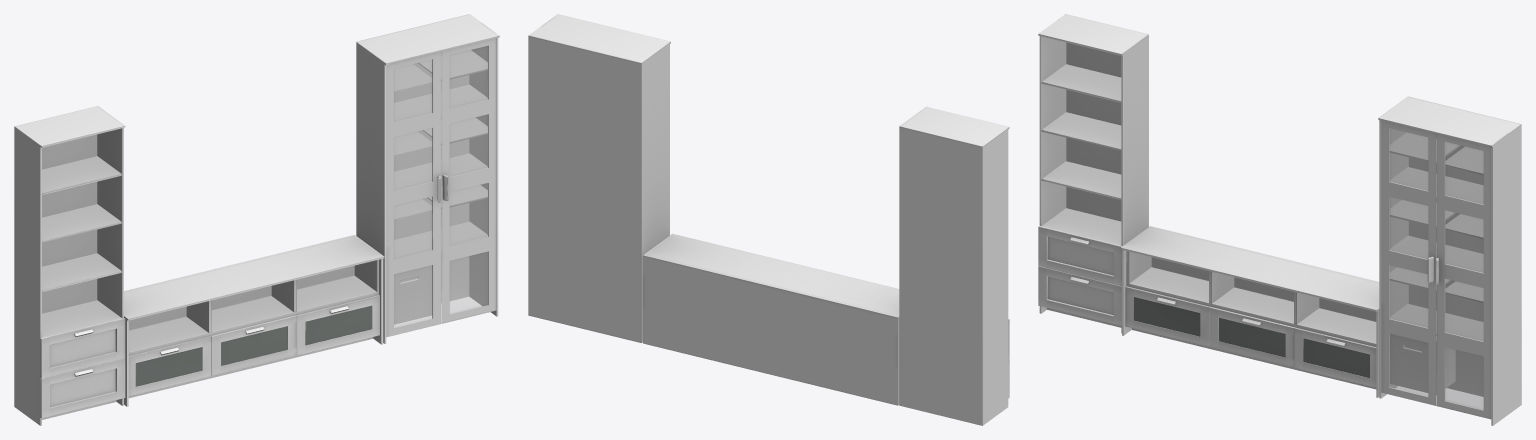
The model's file is Tv Shelf_004_White.gltf.
The picture shows the model from 3 angles, left to right: view 1: azimuth 30°, elevation 25°; view 2: azimuth 150°, elevation 25°; view 3: azimuth 330°, elevation 25°; orthographic projection.
Parts seen in each view (by area): view 1: Tv Shelf_004; view 2: Tv Shelf_004; view 3: Tv Shelf_004.
Boxes of the visible parts, box(x1,y1,x2,y2) form: Tv Shelf_004: box(14, 14, 499, 425); Tv Shelf_004: box(528, 14, 1009, 425); Tv Shelf_004: box(1038, 14, 1521, 425).
Bounding box in the file's own units: 3.24 × 1.91 × 0.3898.
Materials: 1 (1 with a texture image).
